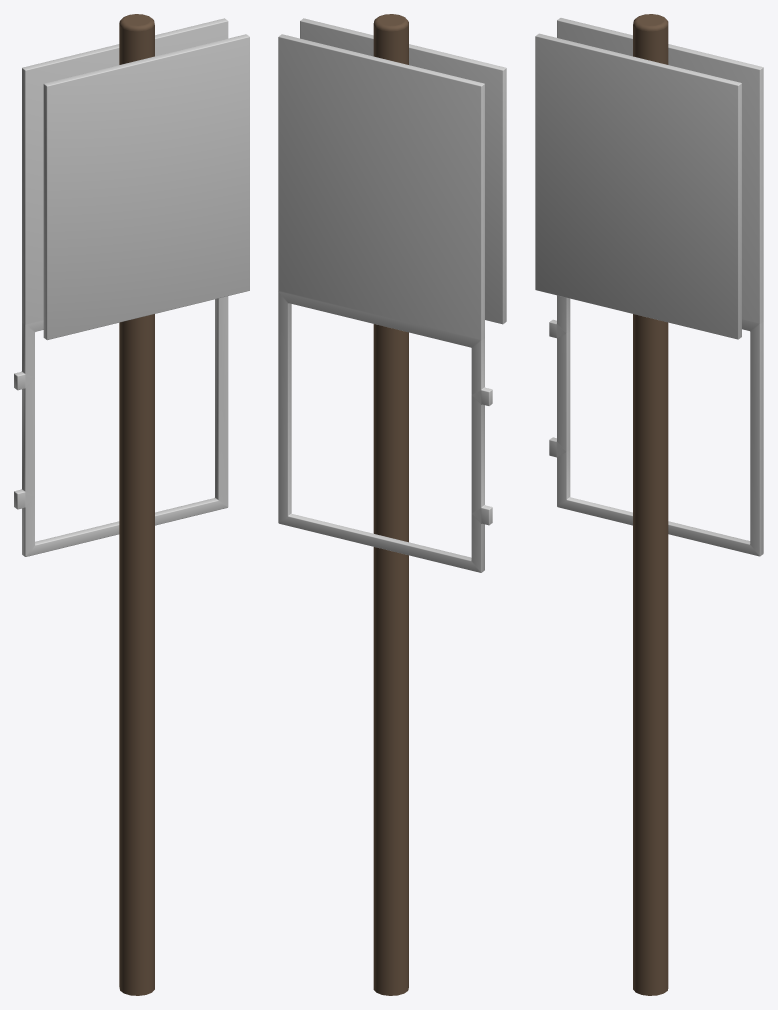
The model's file is Road-Sign-M02A.fbx.
3 renders of one model, left to right at view 1: azimuth 30°, elevation 25°; view 2: azimuth 150°, elevation 25°; view 3: azimuth 330°, elevation 25°, orthographic.
Parts seen in each view (by area): view 1: Road-Sign-M02A; view 2: Road-Sign-M02A; view 3: Road-Sign-M02A.
Part boxes in pixels (x1,y1,x2,y2): Road-Sign-M02A: [14, 14, 249, 995]; Road-Sign-M02A: [278, 14, 506, 995]; Road-Sign-M02A: [535, 14, 763, 995].
Bounding box in the file's own units: 103 × 453 × 21.54.
